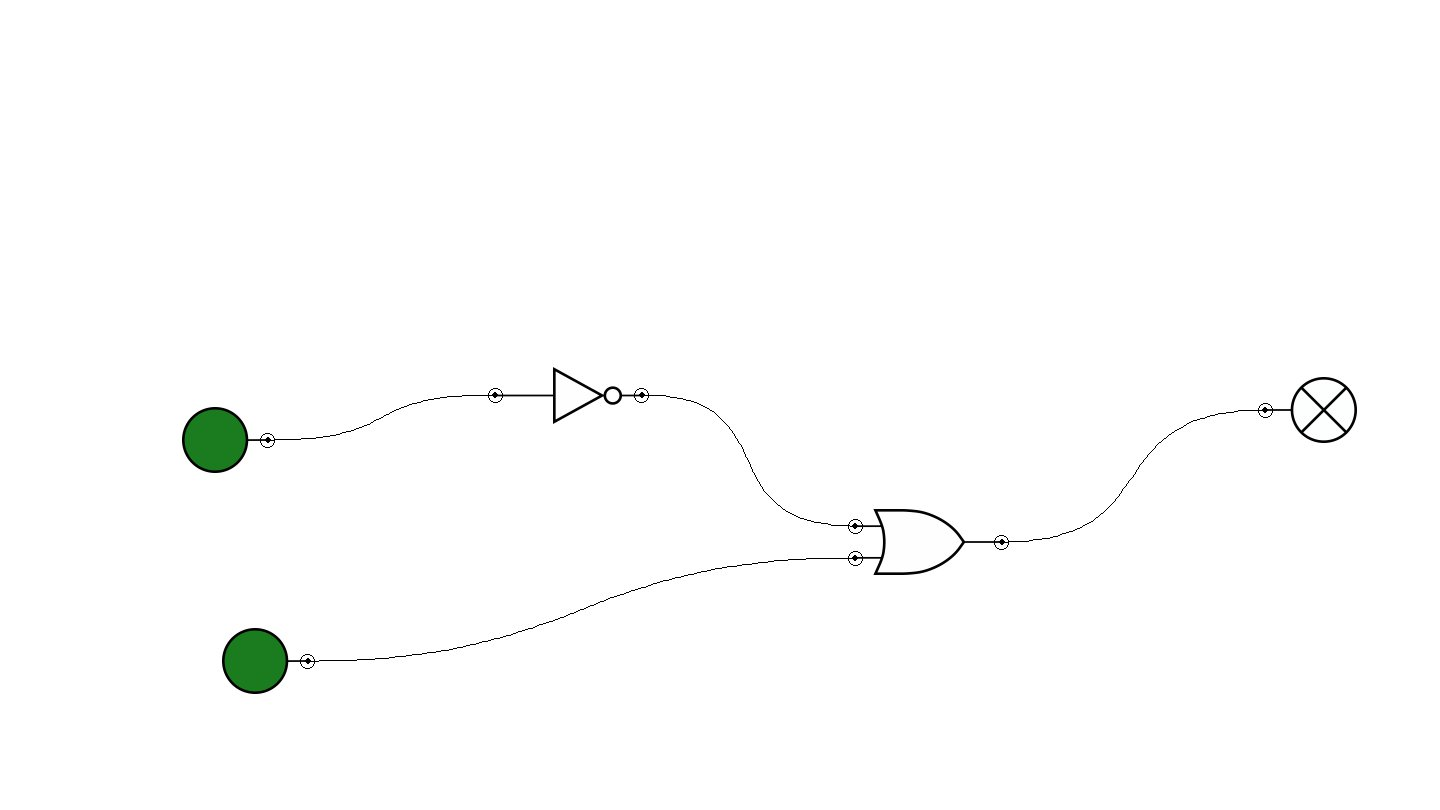bulb: (1258, 377, 1357, 443)
not: (488, 367, 649, 424)
or: (848, 509, 1009, 575)
switch_True: (222, 628, 315, 694), (182, 407, 275, 473)
